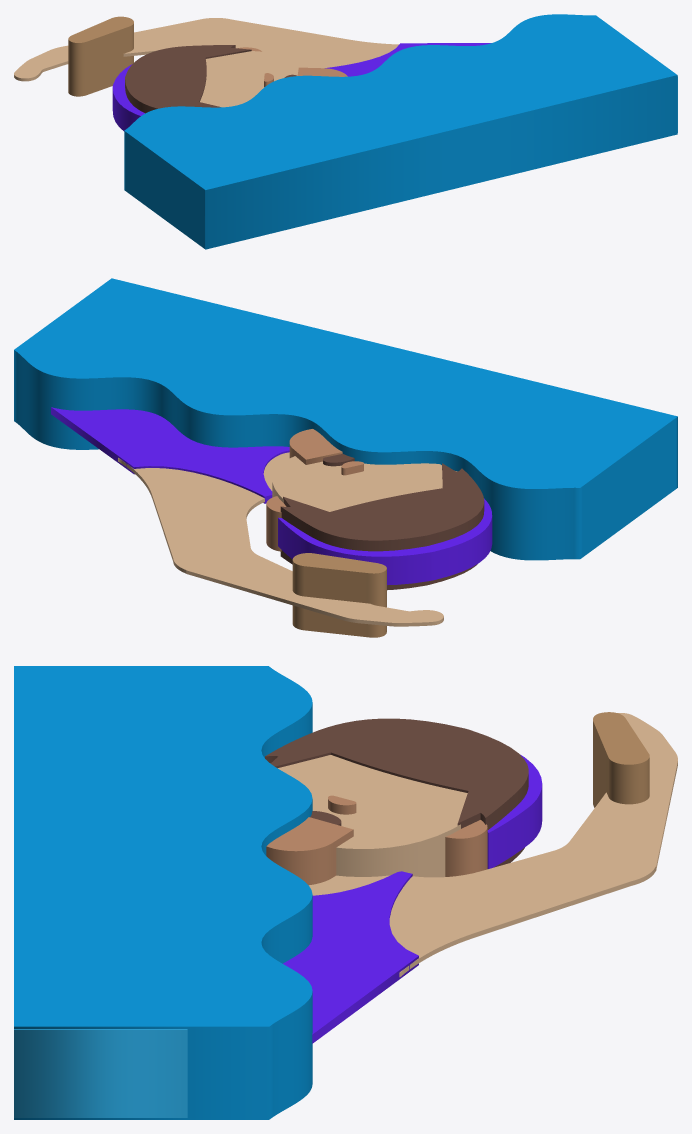
The model's file is emoji_u1f3ca_1f3fc_200d_2640.glb.
The picture shows the model from 3 angles, top to bottom: view 1: azimuth 30°, elevation 25°; view 2: azimuth 150°, elevation 25°; view 3: azimuth 270°, elevation 25°; orthographic projection. The views are drawn at different scales.
Parts seen in each view (by area): view 1: emoji_u1f3ca_1f3fc_200d_2640; view 2: emoji_u1f3ca_1f3fc_200d_2640; view 3: emoji_u1f3ca_1f3fc_200d_2640.
Boxes of the visible parts, x1,y1,x2,y2 form: emoji_u1f3ca_1f3fc_200d_2640: (14,14,677,249); emoji_u1f3ca_1f3fc_200d_2640: (14,278,677,637); emoji_u1f3ca_1f3fc_200d_2640: (14,666,677,1119).
Bounding box in the file's own units: 0.0333 × 0.004 × 0.0258.
